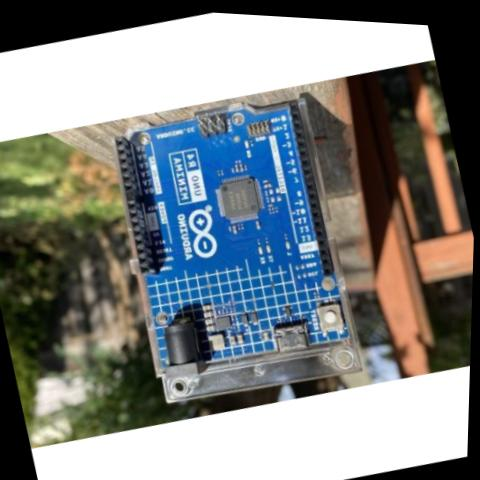Arduino-Uno: (101, 85, 362, 392)
